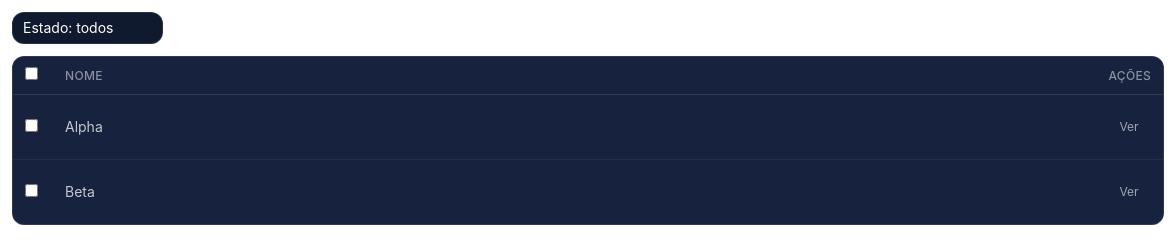
Scenario: kit administrativo compartilhado no DOM do consumidor › controla faceta pelo app
Select "Estado: Aberto" in the dropdown named "Estado": (88, 28) [12,12,163,44]
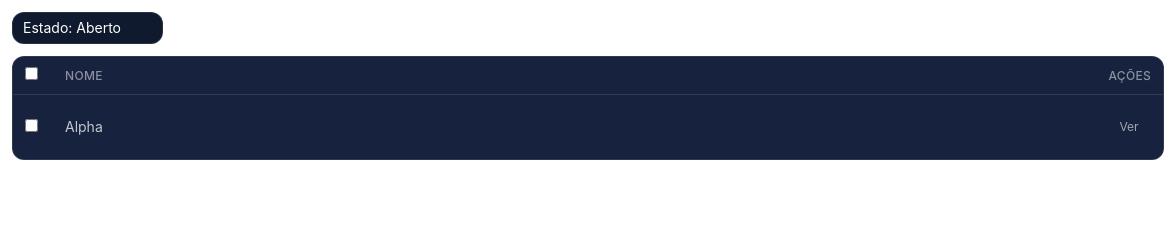
Check: the text "Alpha" is shown, box [53,94,581,159]
Check: the text "Beta" is gone
